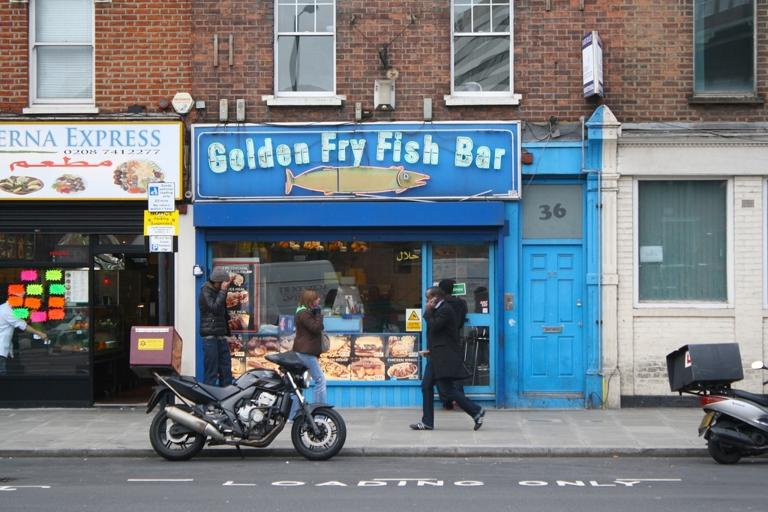non-vehicle: (128, 326, 346, 461), (665, 342, 767, 467)
